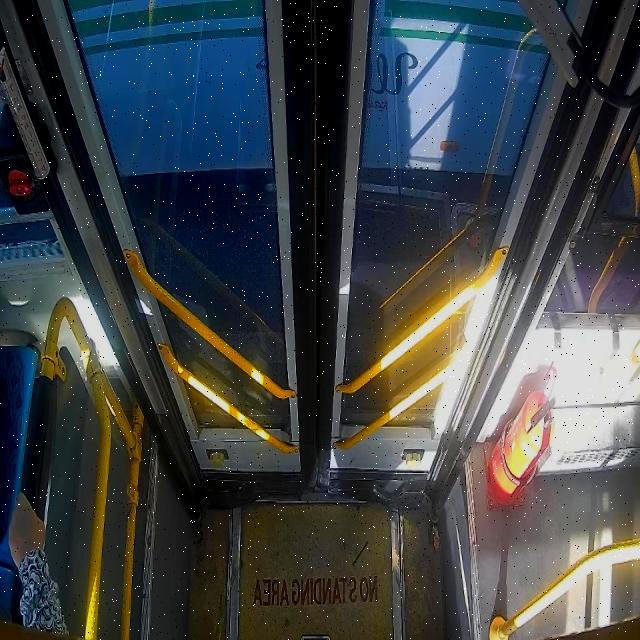close: (58, 0, 560, 486)
